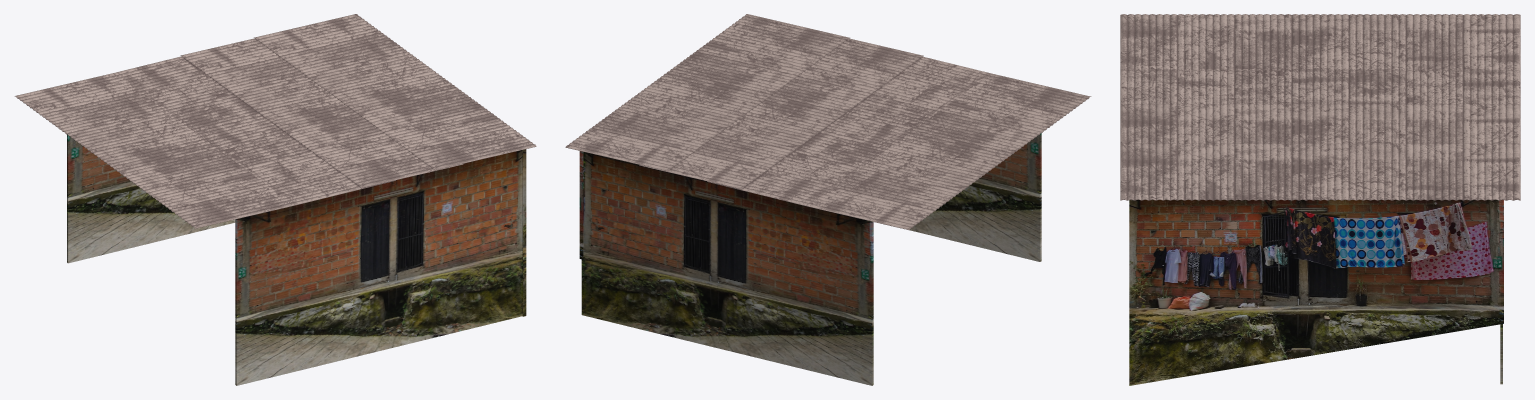
Rendered from casa_derecha_9.fbx.
3 renders of one model, left to right at view 1: azimuth 30°, elevation 25°; view 2: azimuth 150°, elevation 25°; view 3: azimuth 270°, elevation 25°, orthographic. The views are drawn at different scales.
Parts seen in each view (by area): view 1: Techo 09.002, casa_derecha_09B.002, casa_derecha_09B.001, casa_derecha_09A.001; view 2: Techo 09.002, casa_derecha_09B.001, casa_derecha_09B.002, casa_derecha_09A.001; view 3: Techo 09.002, casa_derecha_09A.001.
Part boxes in pixels (bbox=[...]): Techo 09.002: bbox=[14, 14, 536, 228]; casa_derecha_09B.002: bbox=[235, 150, 522, 385]; casa_derecha_09B.001: bbox=[67, 134, 235, 263]; casa_derecha_09A.001: bbox=[522, 149, 526, 316]; Techo 09.002: bbox=[565, 14, 1091, 229]; casa_derecha_09B.001: bbox=[581, 152, 873, 385]; casa_derecha_09B.002: bbox=[909, 133, 1041, 261]; casa_derecha_09A.001: bbox=[579, 151, 583, 259]; Techo 09.002: bbox=[1120, 14, 1520, 200]; casa_derecha_09A.001: bbox=[1129, 200, 1503, 385].
Bounding box in the file's own units: 1756 × 850 × 1611.
